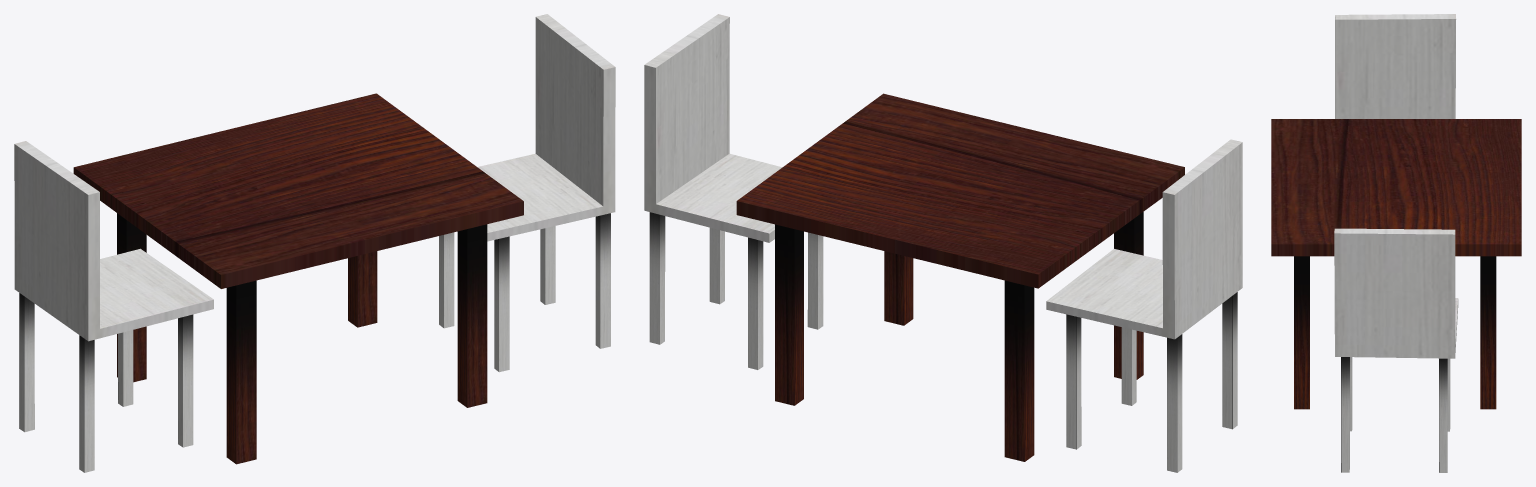
File: tablesetsj.obj
3 views of the same model, side by side, from view 1: azimuth 30°, elevation 25°; view 2: azimuth 150°, elevation 25°; view 3: azimuth 270°, elevation 25° (orthographic). The views are drawn at different scales.
Size of the model in its own units: 2.32 by 1.18 by 1.11.
Materials: 1 (1 with a texture image).
